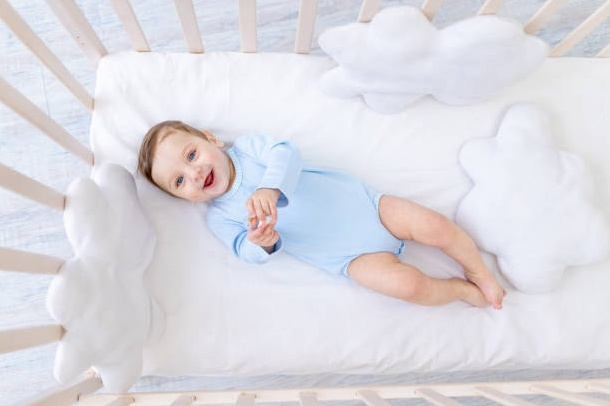baby: (138, 121, 504, 308)
crib: (30, 372, 609, 404)
